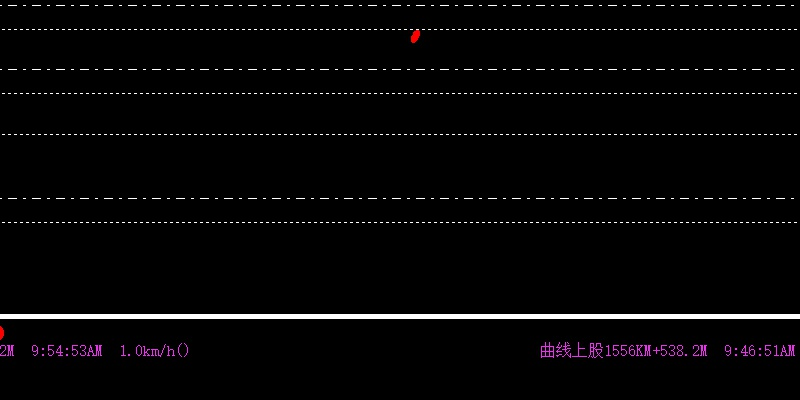face_1: (408, 25, 421, 47)
